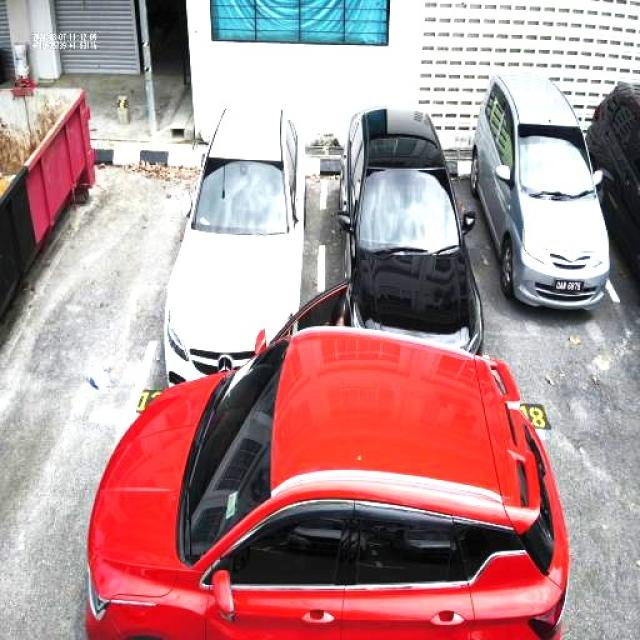Legalparking: (165, 106, 305, 384), (336, 108, 481, 352), (470, 76, 609, 308), (588, 82, 639, 276)
illegalparking: (86, 311, 568, 639)
